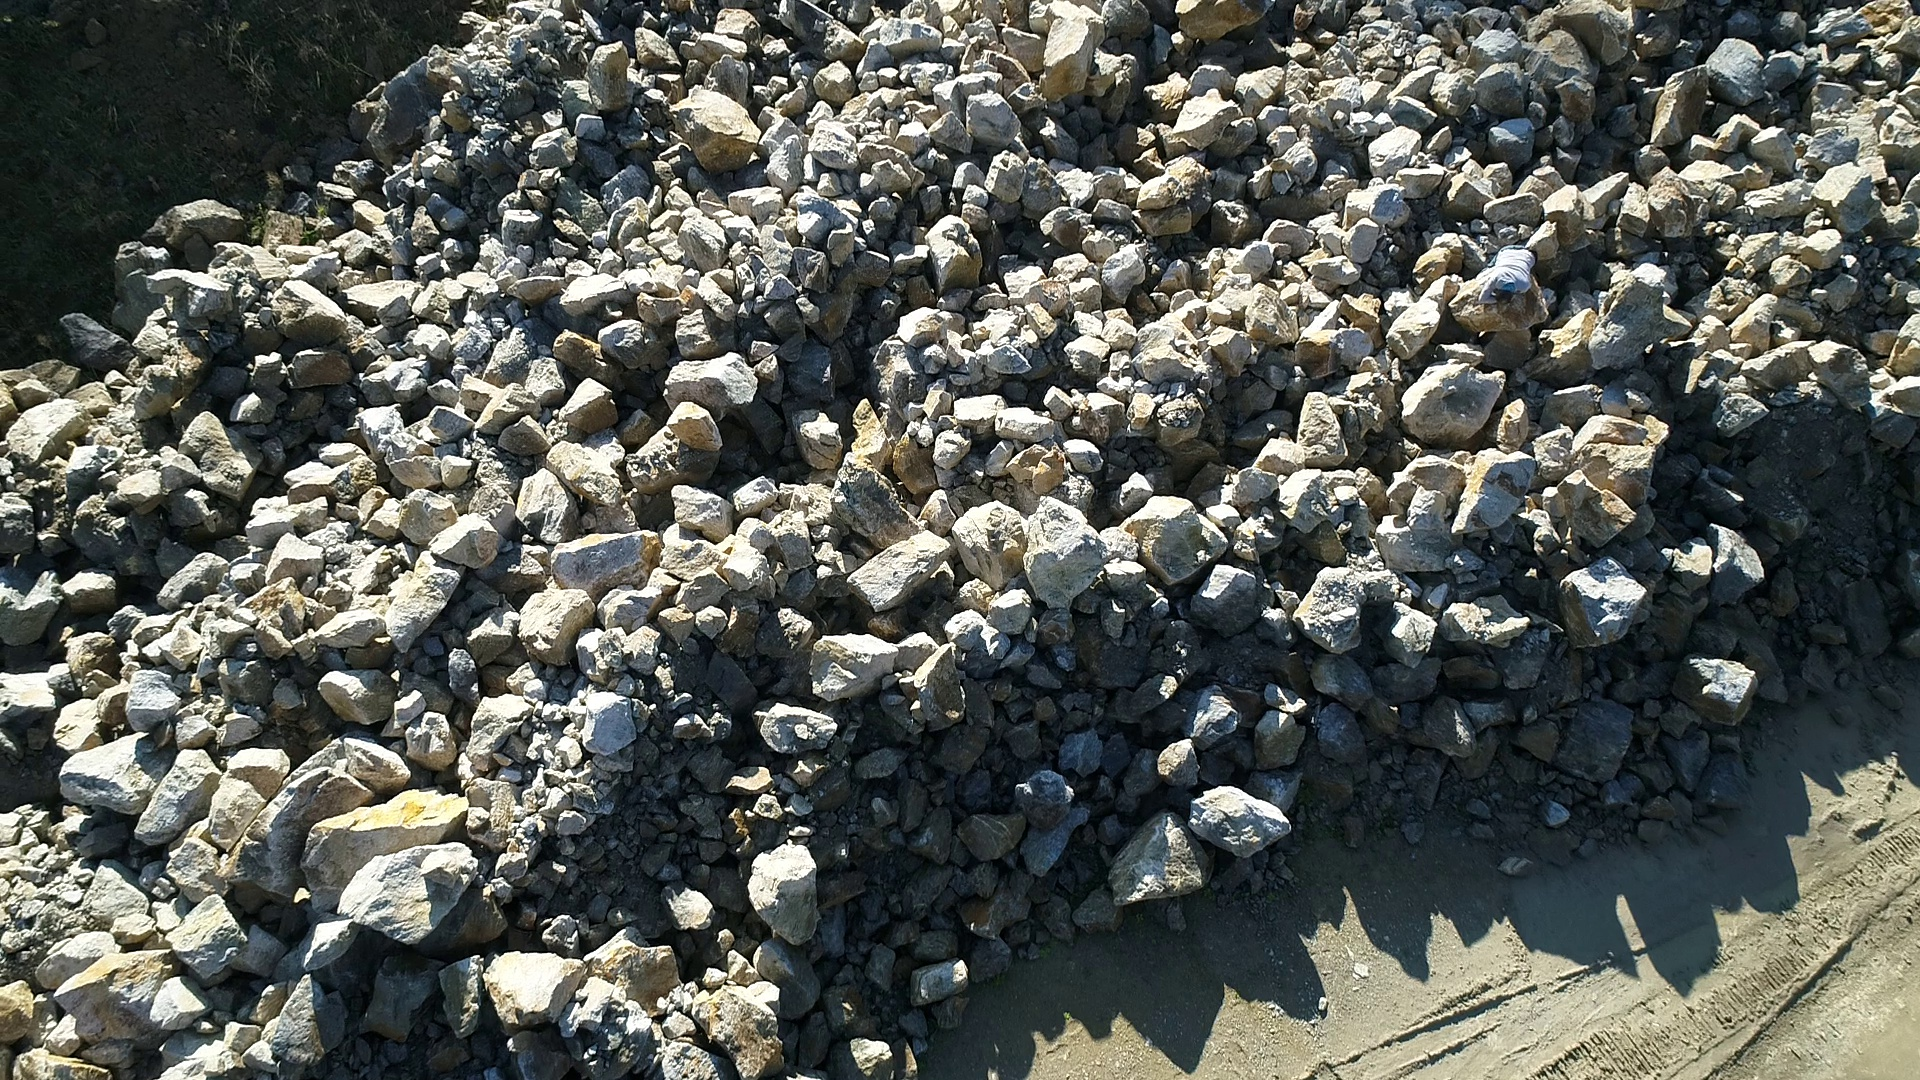person: (1476, 242, 1539, 308)
